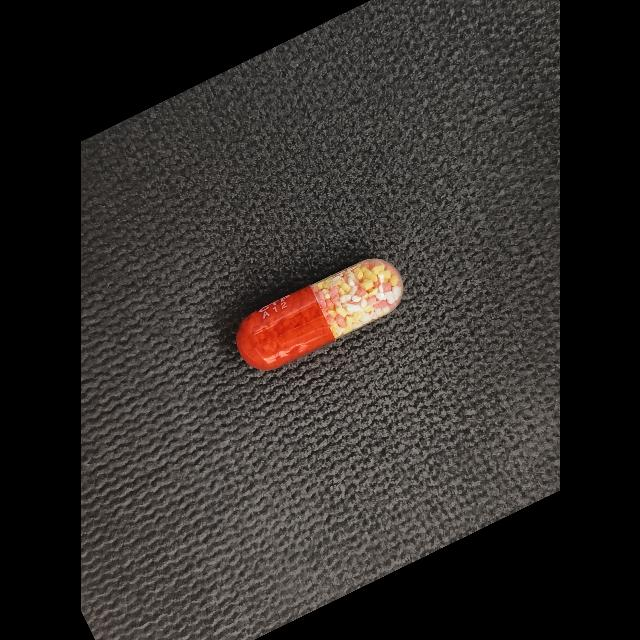Intact Capsule: (236, 259, 402, 370)
